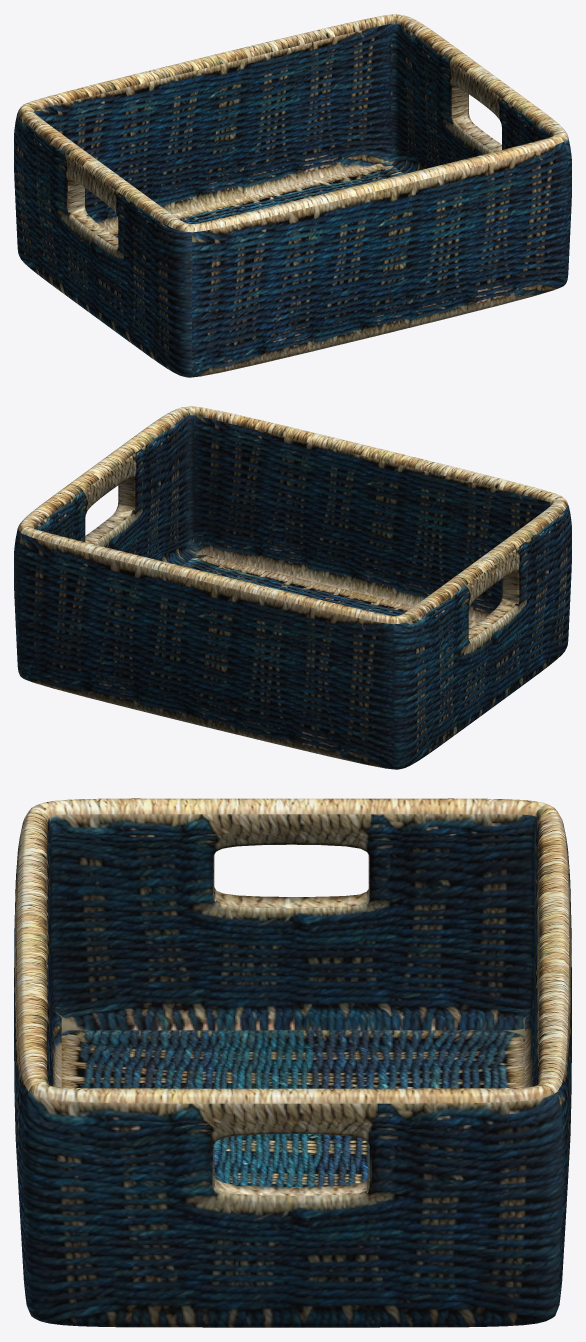
Rendered from obj_indian_towel_basket_7ec228.glb.
3 views of the same model, one above another, from view 1: azimuth 30°, elevation 25°; view 2: azimuth 150°, elevation 25°; view 3: azimuth 270°, elevation 25° (orthographic). The views are drawn at different scales.
Visible parts, largest first — view 1: obj_indian_towel_basket_7ec228; view 2: obj_indian_towel_basket_7ec228; view 3: obj_indian_towel_basket_7ec228.
Part boxes in pixels (x1,y1,x2,y2): obj_indian_towel_basket_7ec228: (14, 14, 571, 377); obj_indian_towel_basket_7ec228: (14, 406, 571, 769); obj_indian_towel_basket_7ec228: (14, 798, 571, 1327).
Bounding box in the file's own units: 0.4 × 0.1518 × 0.31.
Materials: 1 (1 with a texture image).
